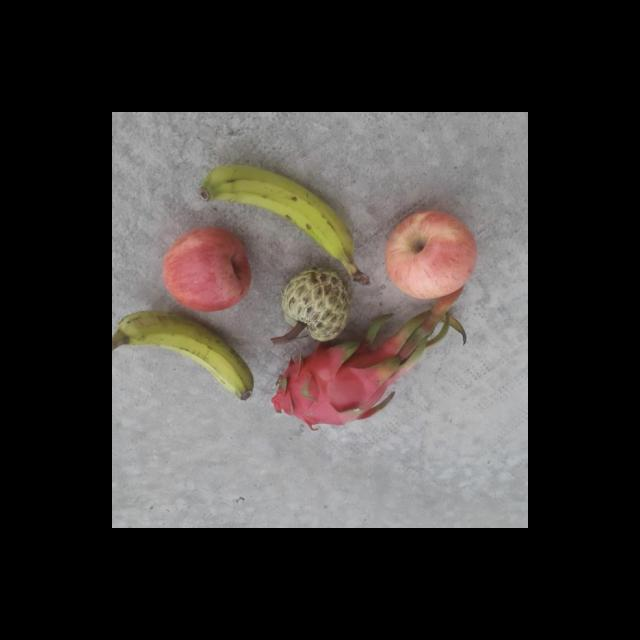Sakya fruit: (267, 264, 352, 346)
apple: (382, 202, 478, 299), (162, 225, 255, 313)
banana: (195, 160, 372, 286), (112, 310, 255, 403)
pitaya: (271, 332, 398, 430)
